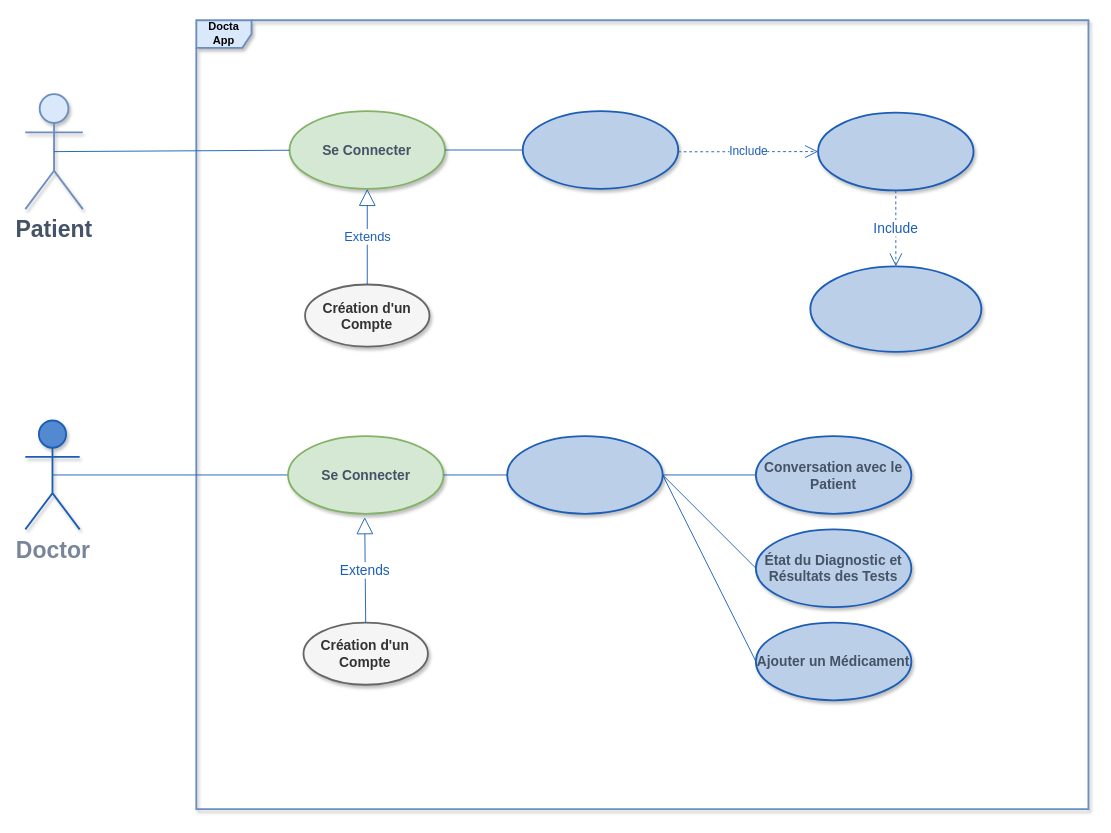
Image size: 1111x833. Some labels were removed from this diagram. The centre of each missing label's shape, as x and y in pixels:
Choisissez une catégorie de Maladie: pixel 896 152
Comptes Patients: pixel 585 476
Prenez Rendez-Vous: pixel 601 151
Trouver un Médecin: pixel 896 310
